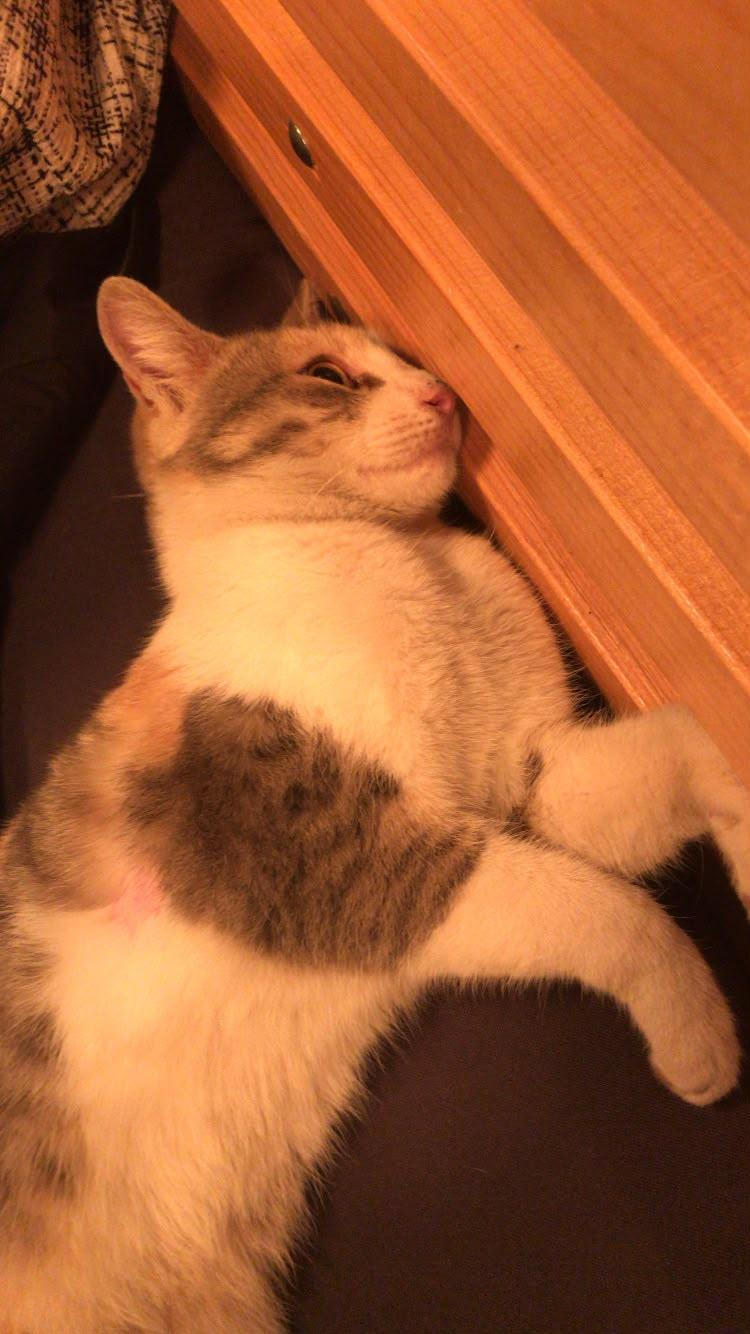macka: (0, 272, 749, 1333)
